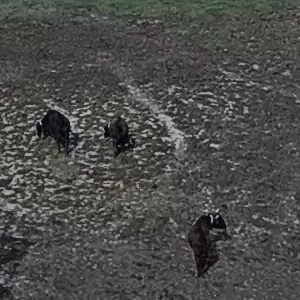cow: (179, 200, 235, 292), (29, 106, 80, 167), (102, 109, 138, 169), (1, 223, 33, 272)
